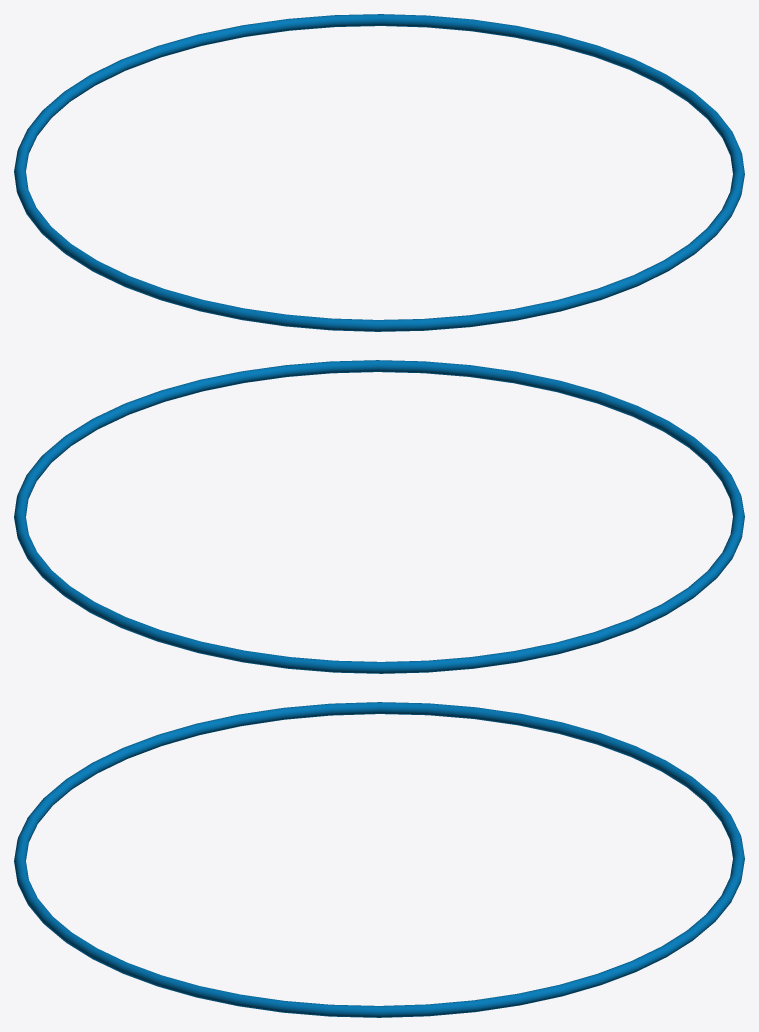
The model's file is hoop-new-pivotfbx.fbx.
3 views of the same model, one above another, from view 1: azimuth 30°, elevation 25°; view 2: azimuth 150°, elevation 25°; view 3: azimuth 270°, elevation 25° (orthographic).
Parts seen in each view (by area): view 1: hoop horizontal; view 2: hoop horizontal; view 3: hoop horizontal.
Part boxes in pixels (x1,y1,x2,y2): hoop horizontal: (14, 14, 744, 331); hoop horizontal: (14, 360, 744, 673); hoop horizontal: (14, 702, 744, 1017).
Size of the model in its own units: 1488 by 29.68 by 1488.
